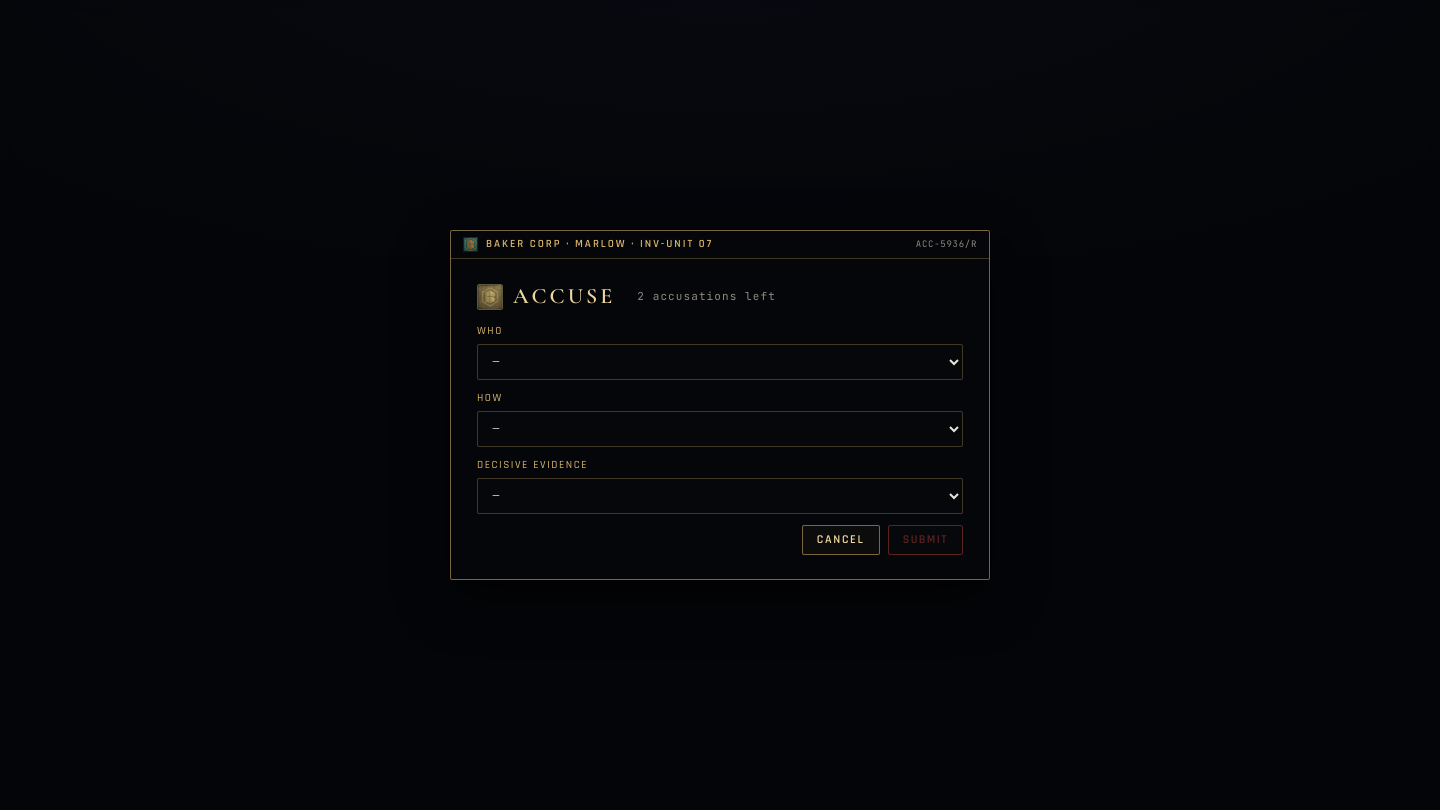
Scenario: accuse dialog › solving shows the reveal
The image size is (1440, 810).
Select "Ada · Engineer" in the dropdown labelled "Who" at (720, 362), box [477,344,963,380]
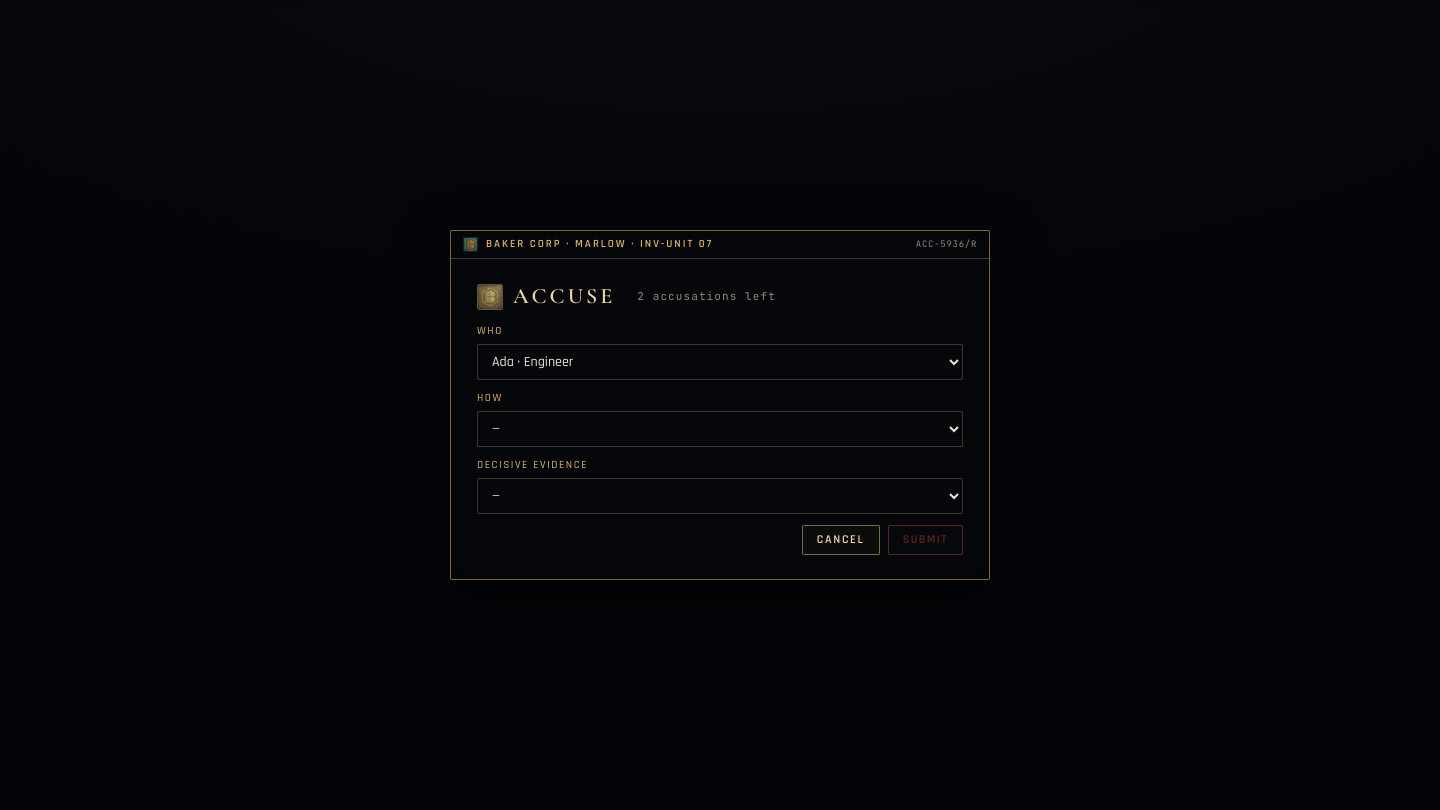
Select "Took it from the hook" in the dropdown labelled "How" at (720, 429), box [477,411,963,447]
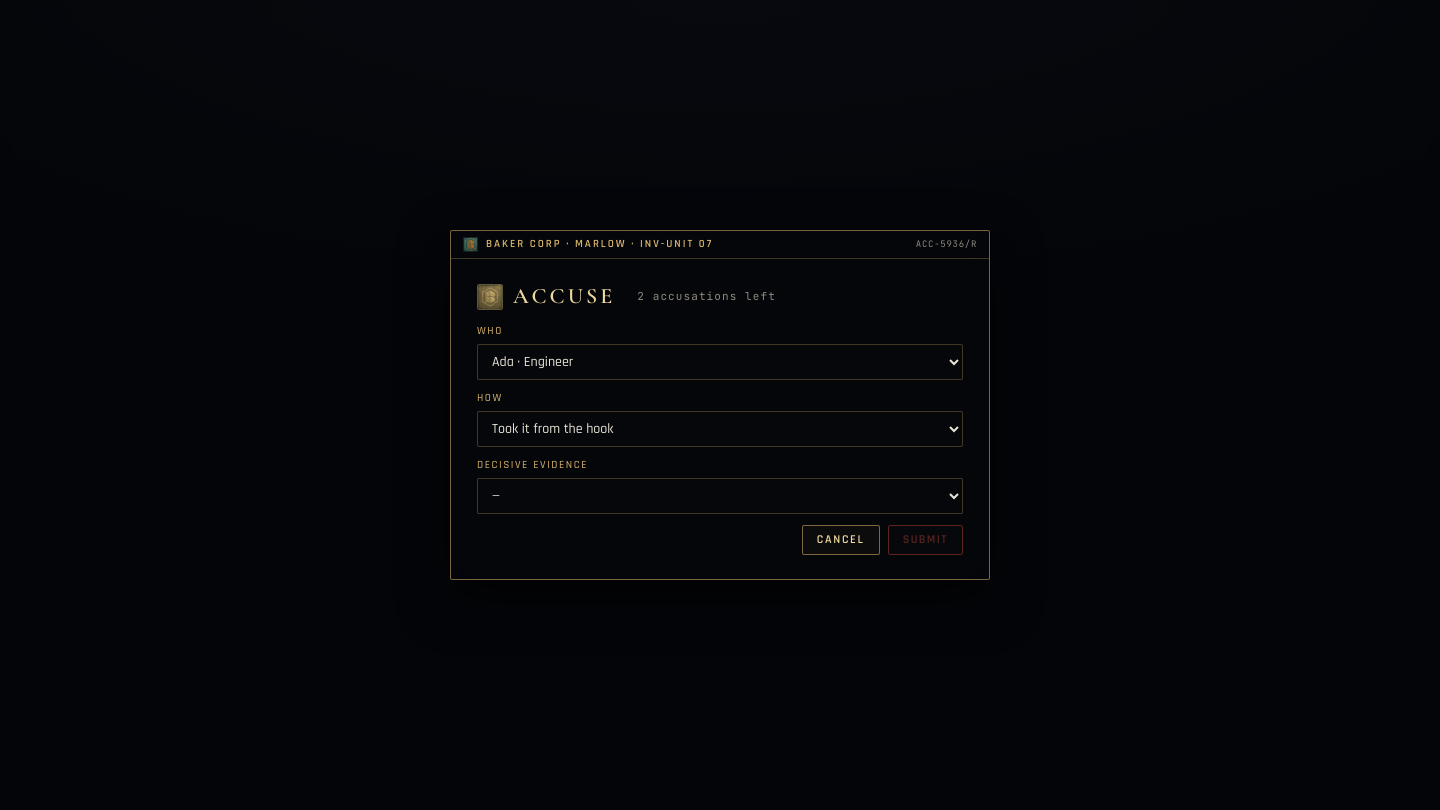
Select "Grease print" in the dropdown labelled "Decisive evidence" at (720, 496), box [477,478,963,514]
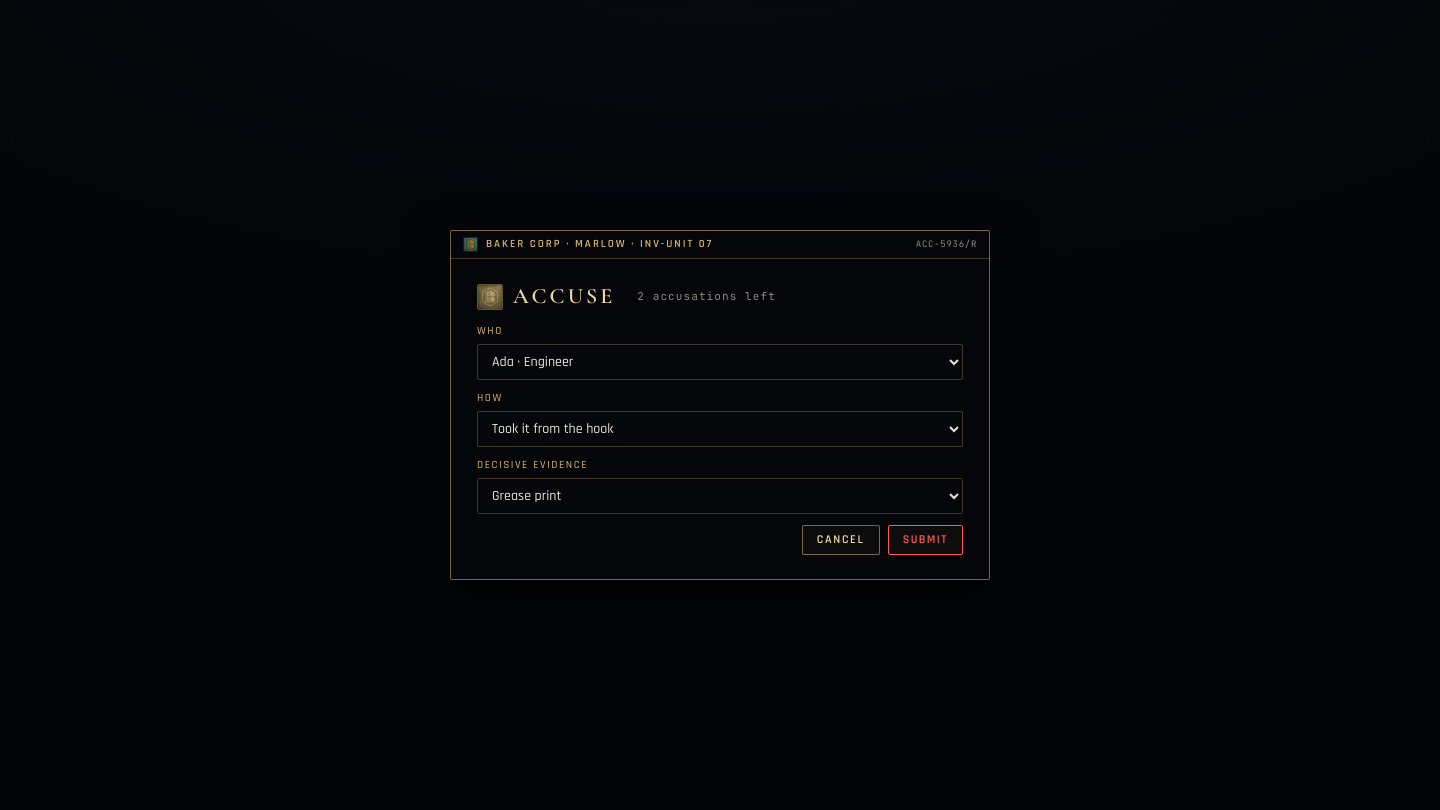
Click the button "Submit" at (925, 540), box [888,525,963,555]
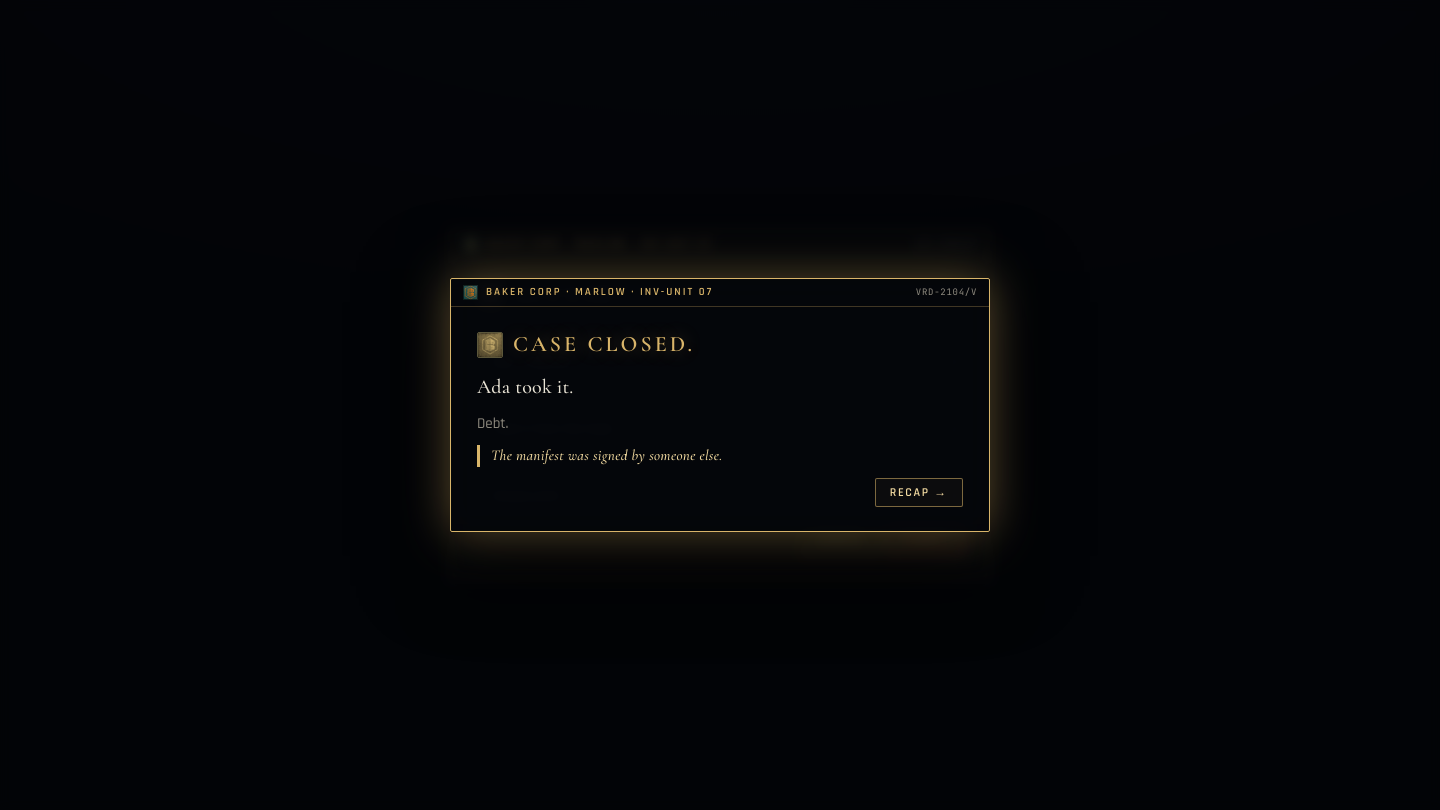
expect the text "Ada took it." is shown: met, box [477,374,574,398]
